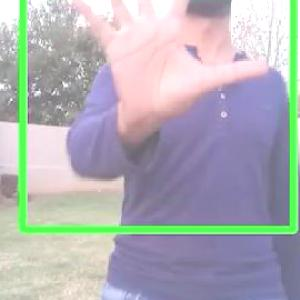follow_hand: (62, 0, 274, 130)
